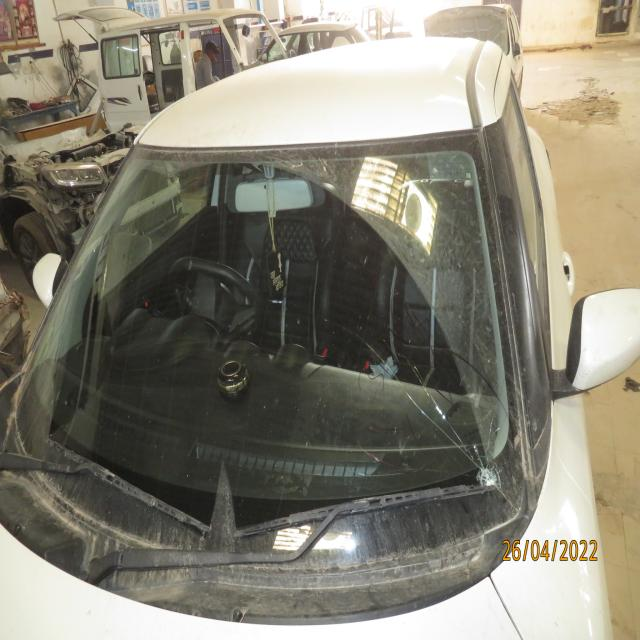damage: (359, 338, 517, 540)
